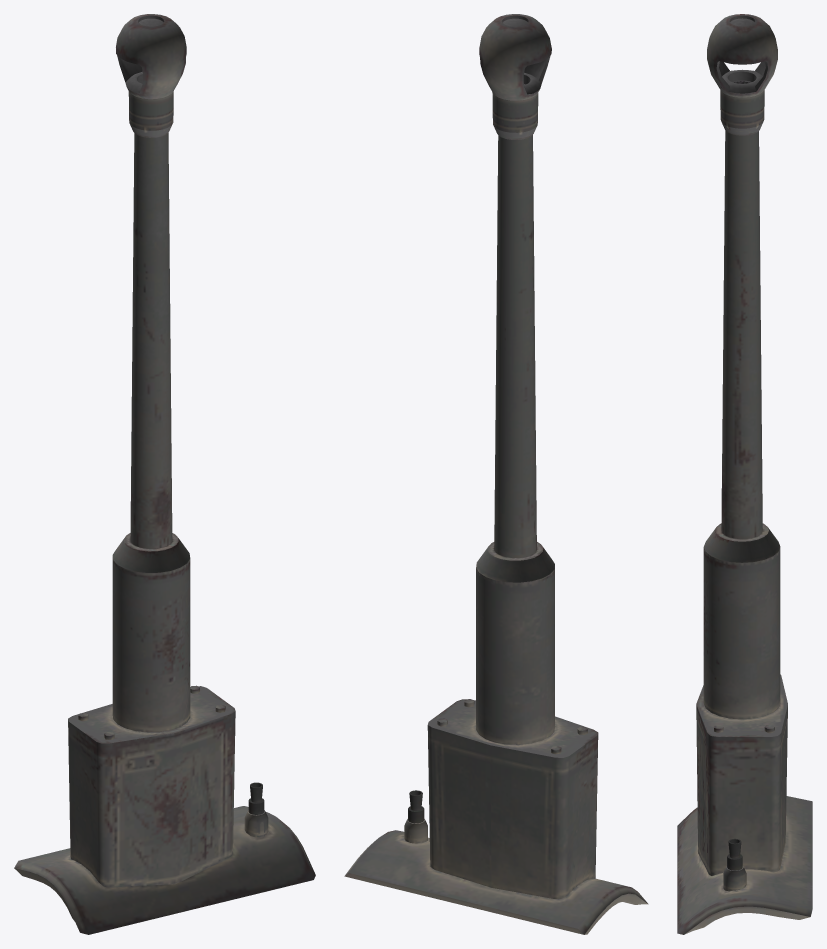
Rendered from Gun_01.glb.
3 views of the same model, side by side, from view 1: azimuth 30°, elevation 25°; view 2: azimuth 150°, elevation 25°; view 3: azimuth 270°, elevation 25° (orthographic). The views are drawn at different scales.
Visible parts, largest first — view 1: set_0_group_0; view 2: set_0_group_0; view 3: set_0_group_0.
Boxes of the visible parts, x1,y1,x2,y2 form: set_0_group_0: (14, 14, 315, 934); set_0_group_0: (344, 14, 648, 934); set_0_group_0: (677, 14, 812, 934).
Bounding box in the file's own units: 0.7848 × 2.75 × 0.3947.
Materials: 1 (1 with a texture image).
